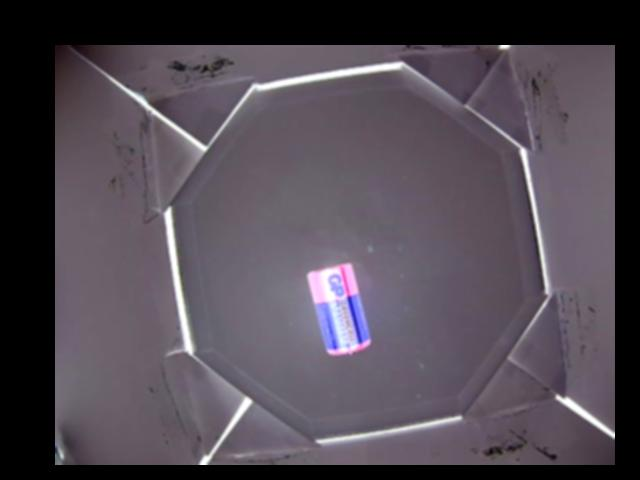Battery: (307, 261, 371, 356)
